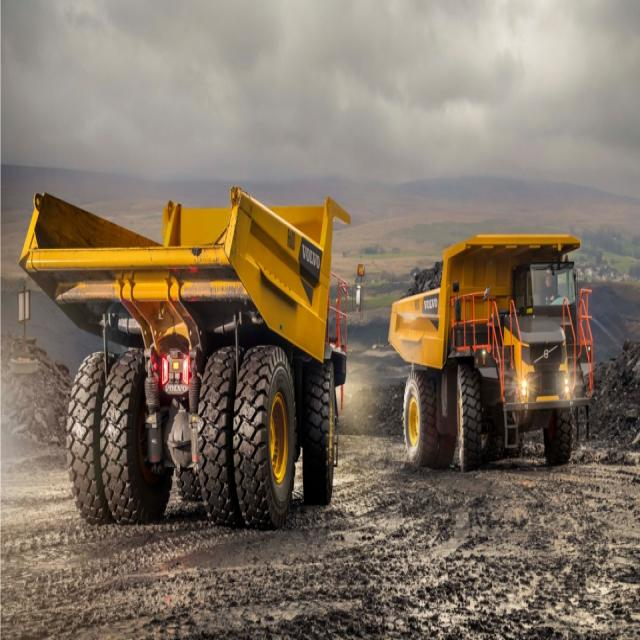dump_truck: (22, 164, 351, 536), (385, 220, 601, 488)
